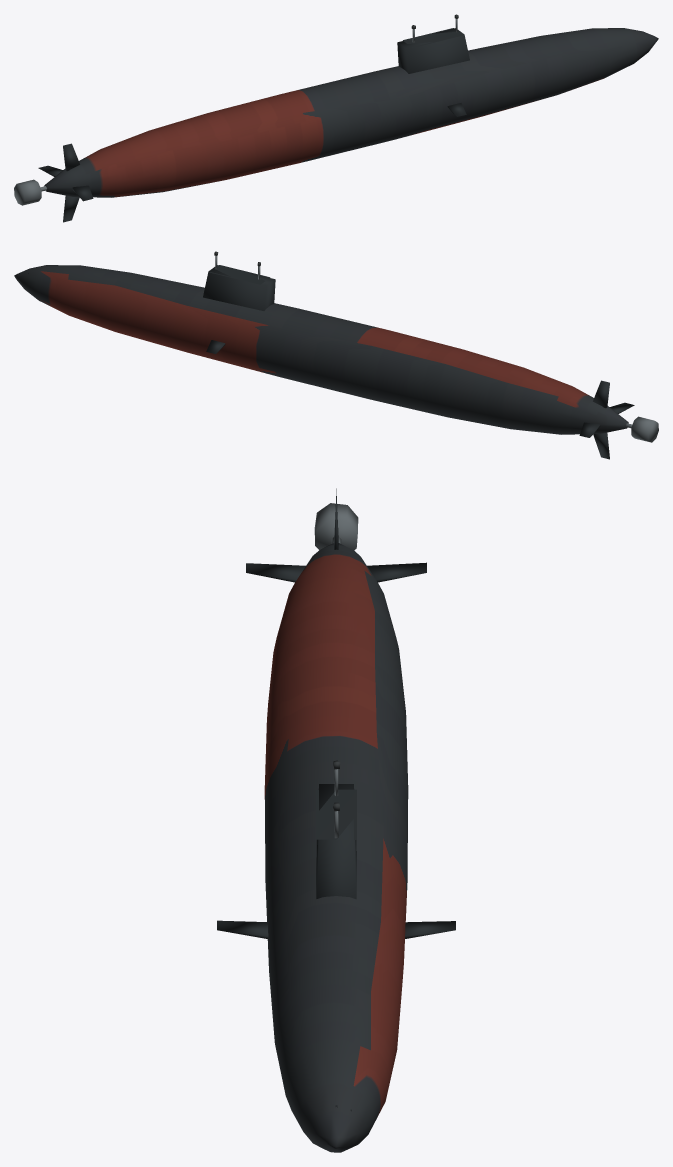
The model's file is CN_SSN_Type093A_LOD3.fbx.
3 renders of one model, top to bottom at view 1: azimuth 30°, elevation 25°; view 2: azimuth 150°, elevation 25°; view 3: azimuth 270°, elevation 25°, orthographic. The views are drawn at different scales.
Visible parts, largest first — view 1: CN_SSN_Type093A_LOD3; view 2: CN_SSN_Type093A_LOD3; view 3: CN_SSN_Type093A_LOD3.
Boxes of the visible parts, x1,y1,x2,y2 form: CN_SSN_Type093A_LOD3: (14, 14, 658, 222); CN_SSN_Type093A_LOD3: (14, 251, 658, 459); CN_SSN_Type093A_LOD3: (217, 488, 455, 1152).
Bounding box in the file's own units: 113 × 18.33 × 18.81.
6 materials, 1 textured.
